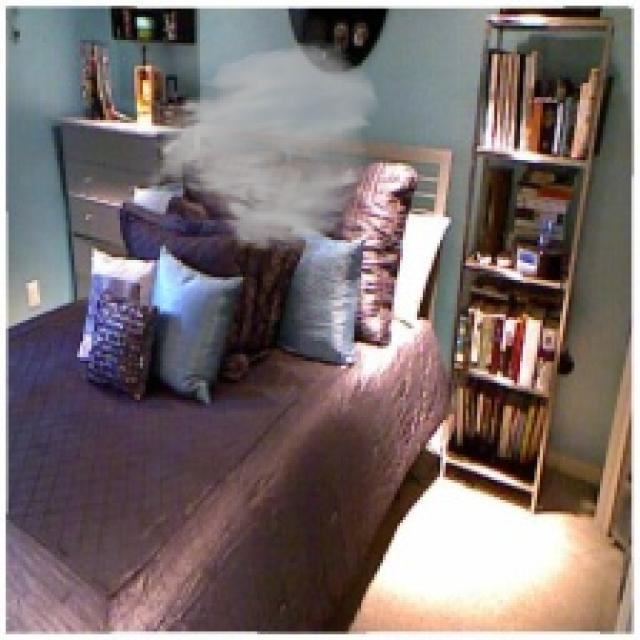smoke: (143, 40, 383, 254)
